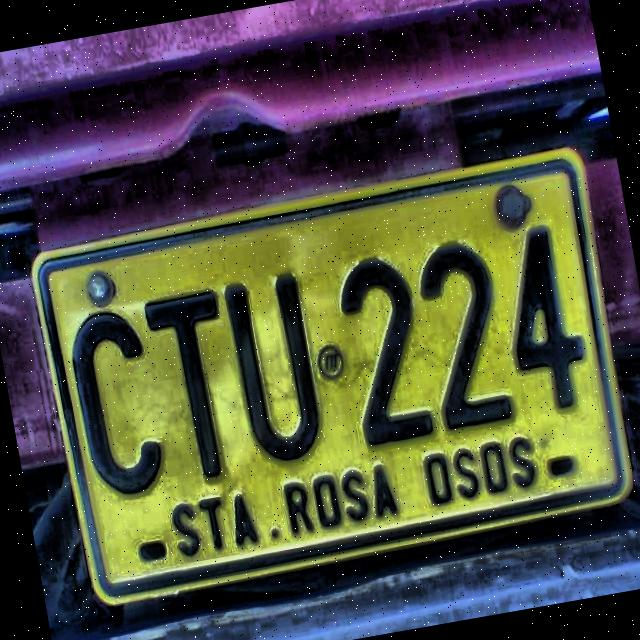2: (407, 228, 520, 442), (328, 248, 441, 458)
4: (487, 220, 599, 420)
C: (60, 302, 174, 506)
T: (137, 282, 251, 494)
U: (218, 262, 332, 478)
